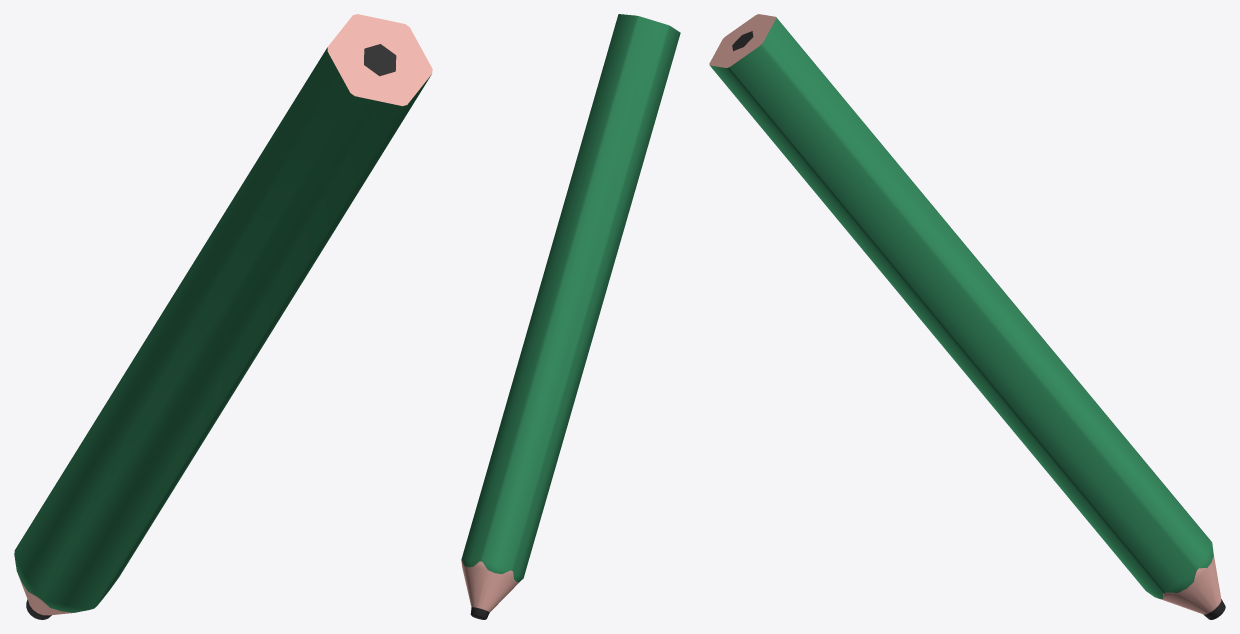
The model's file is lapiz.fbx.
3 renders of one model, left to right at view 1: azimuth 30°, elevation 25°; view 2: azimuth 150°, elevation 25°; view 3: azimuth 270°, elevation 25°, orthographic. The views are drawn at different scales.
Parts seen in each view (by area): view 1: CRAYON_01; view 2: CRAYON_01; view 3: CRAYON_01.
Part boxes in pixels (bbox=[...]): CRAYON_01: bbox=[14, 14, 432, 619]; CRAYON_01: bbox=[461, 14, 680, 619]; CRAYON_01: bbox=[709, 14, 1225, 619].
Bounding box in the file's own units: 2.73 × 19.09 × 14.67.
